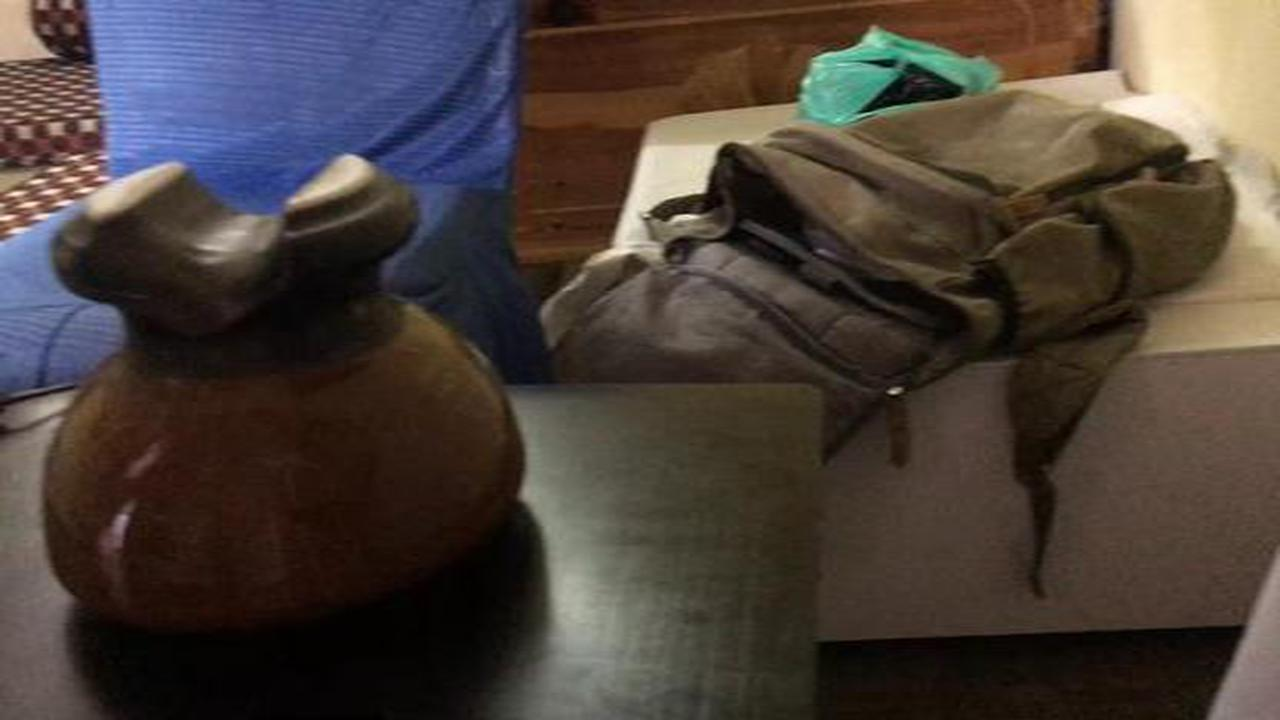insulator_pin: (23, 139, 533, 655)
